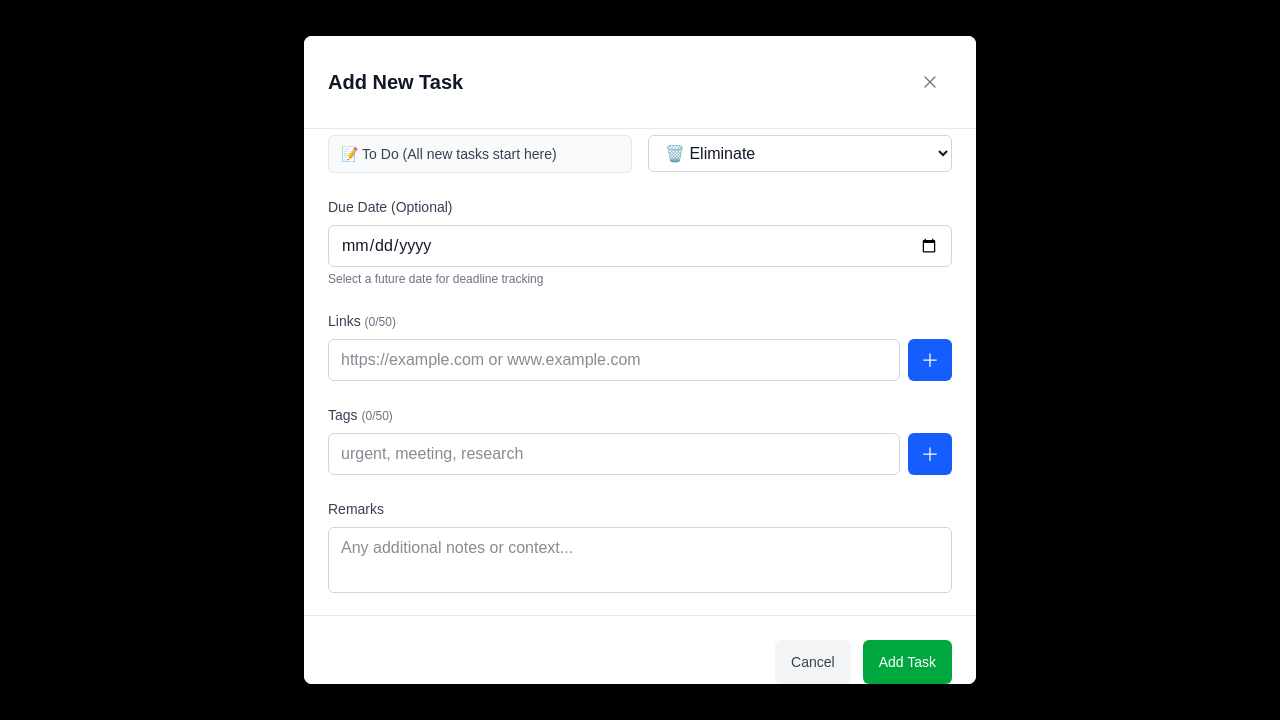
it: AddTaskModal - Form Validation › Link Management › removes link
The image size is (1280, 720).
(page scrolled)
Type "https://test.com" into the field with placeholder "https://example.com or www.example.com" at {"x": 614, "y": 360}, box [328, 339, 900, 381]
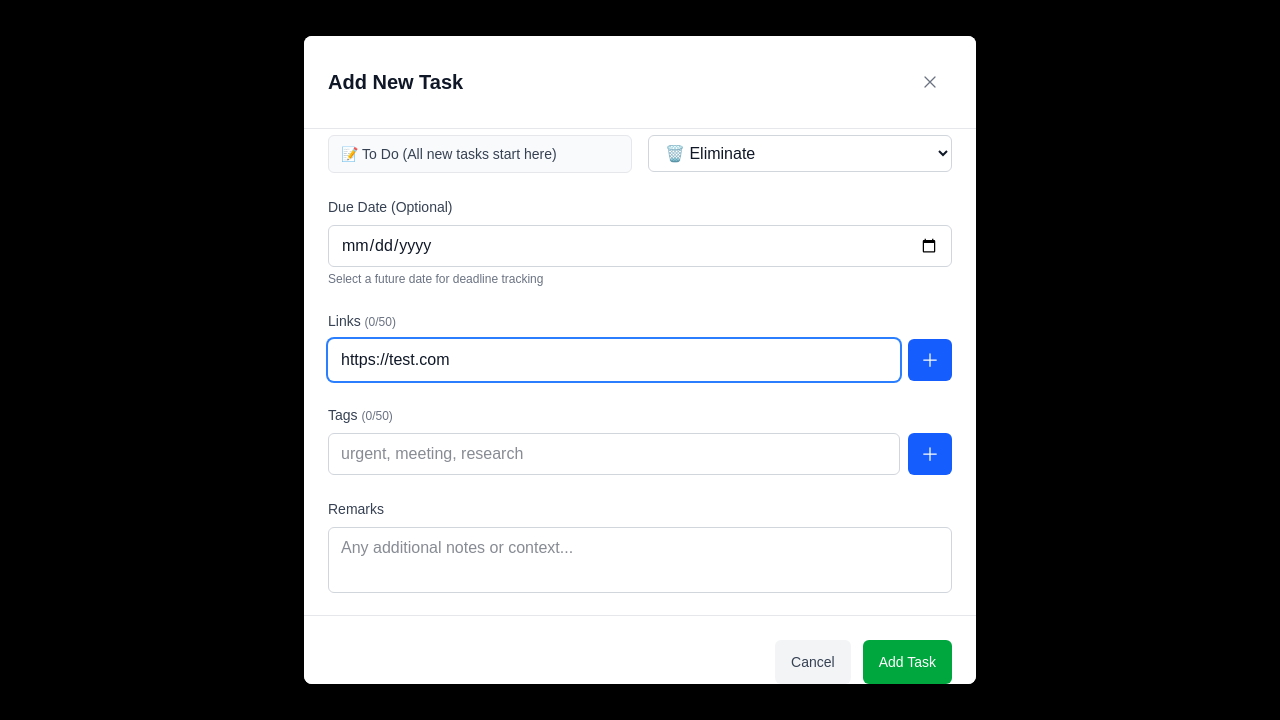
Click the button named "Add link to task" at {"x": 930, "y": 360}, box [908, 339, 952, 381]
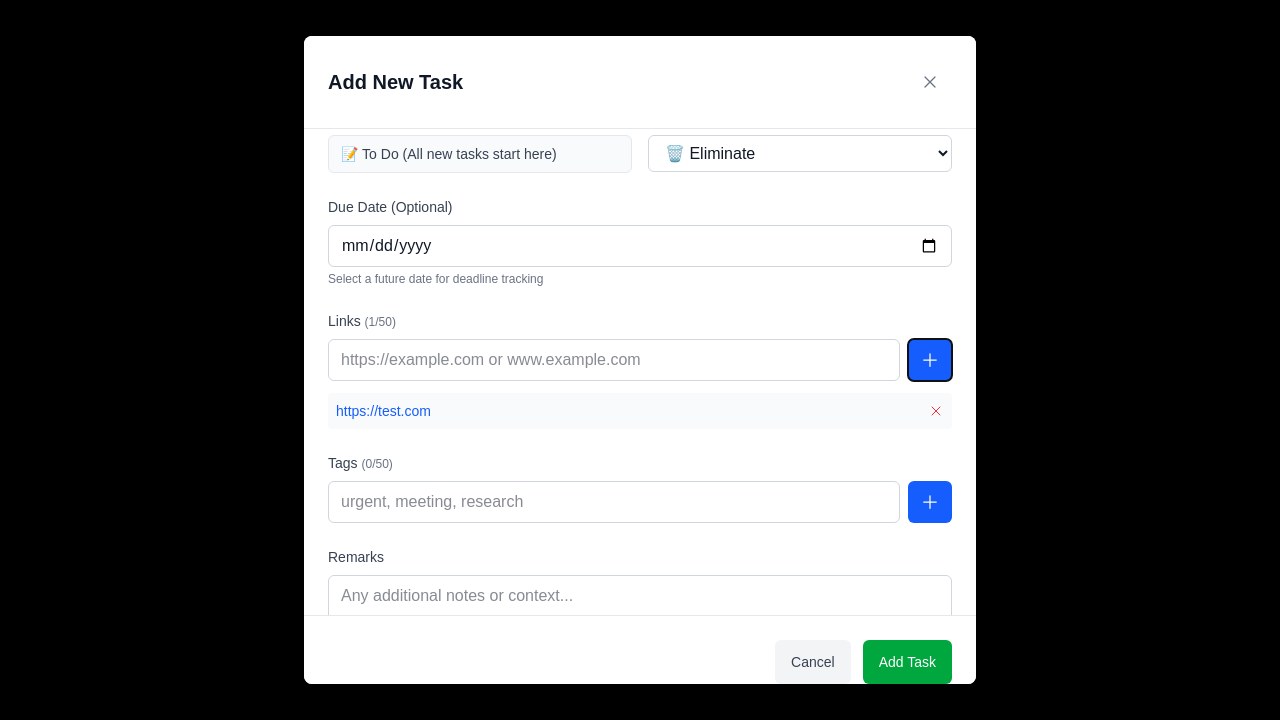
Check: the text "https://test.com" is shown, box [336, 403, 431, 419]
Click the button named "Remove link https://test.com" at {"x": 936, "y": 411}, box [928, 403, 944, 419]
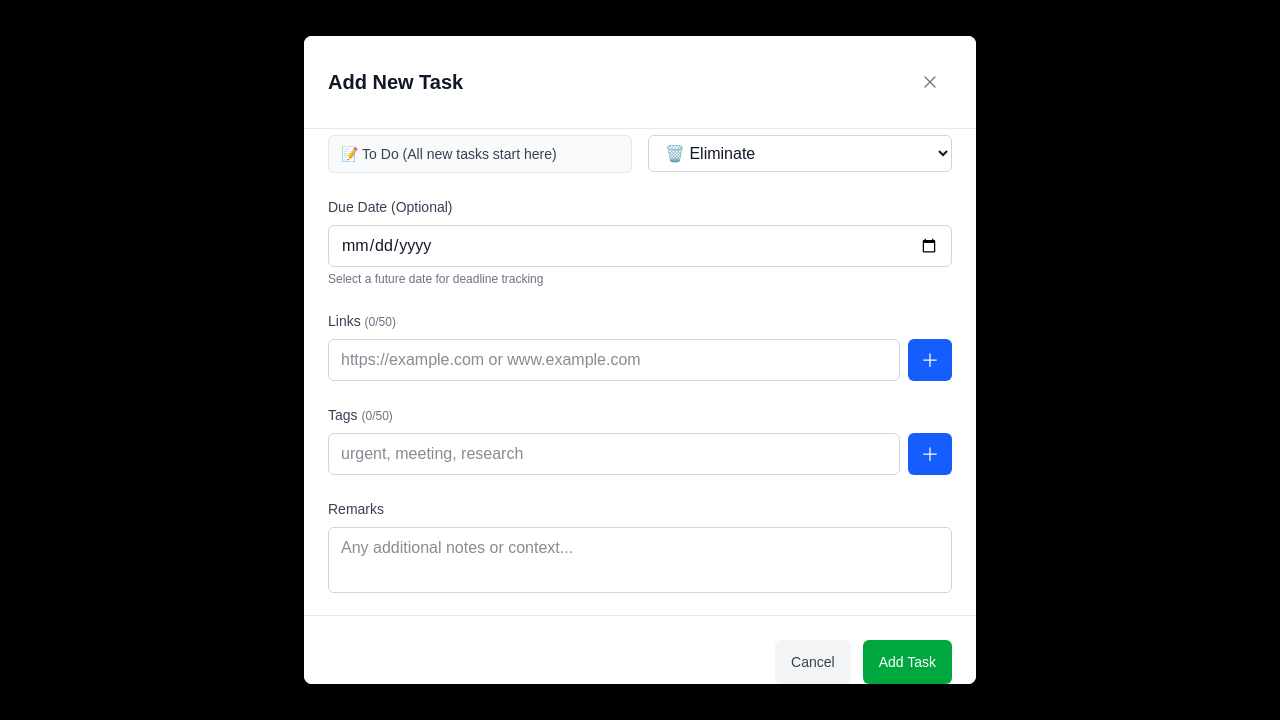
Check: the text "https://test.com" is gone
